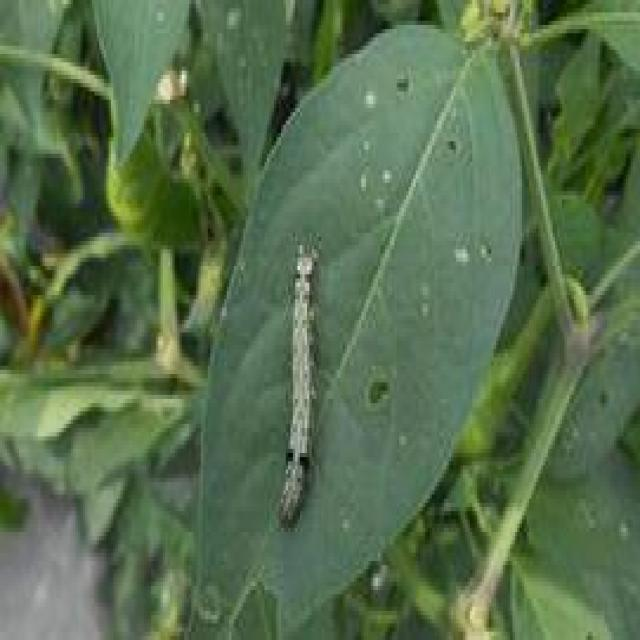BeetArmyWorm-Larva-: (273, 228, 331, 528)
